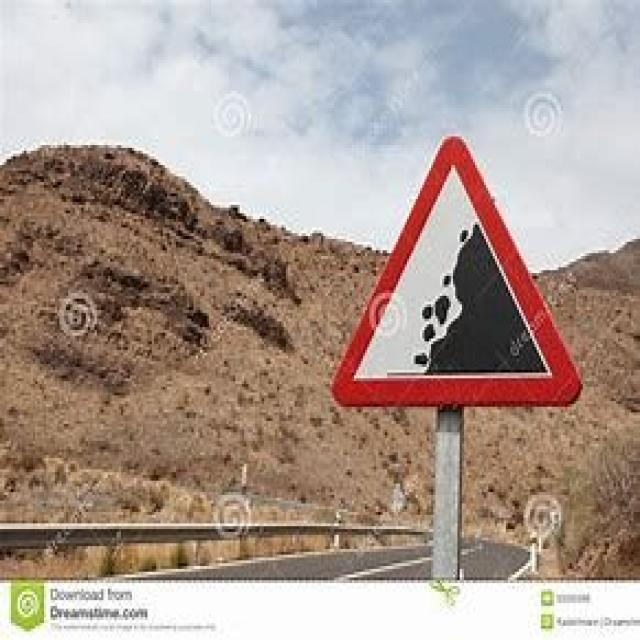falling rocks: (325, 121, 584, 420)
